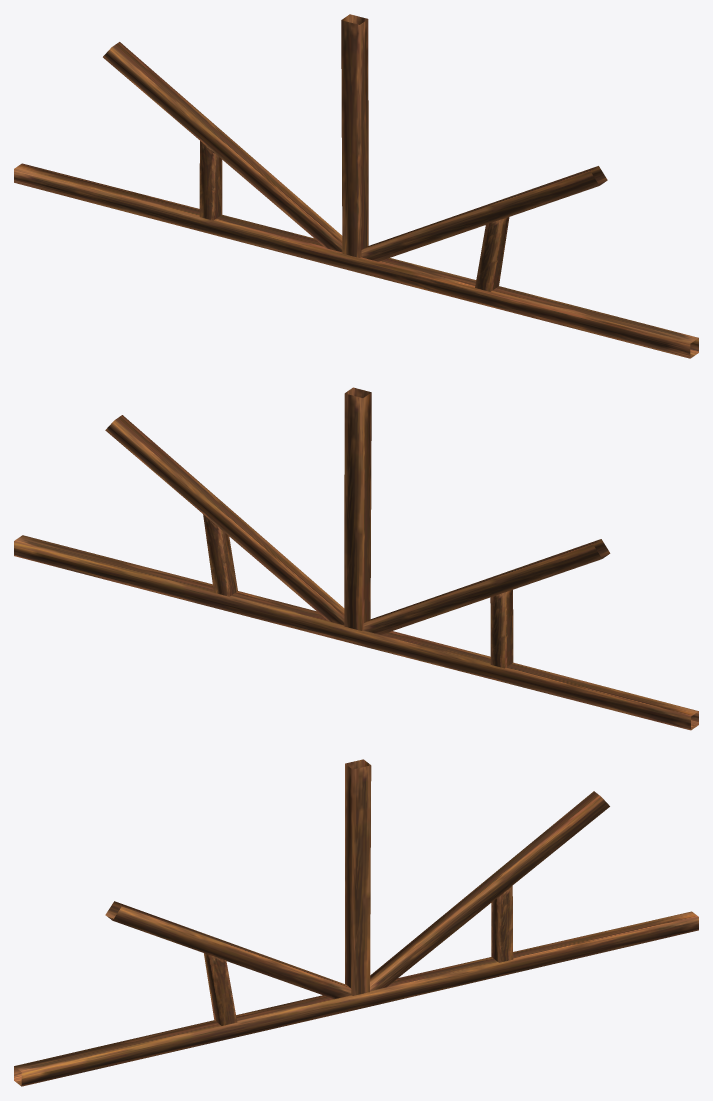
Rendered from SWORDLIGHT20_JAILCEILBRACKET01.fbx.
The picture shows the model from 3 angles, top to bottom: view 1: azimuth 30°, elevation 25°; view 2: azimuth 210°, elevation 25°; view 3: azimuth 270°, elevation 25°; orthographic projection. The views are drawn at different scales.
Parts seen in each view (by area): view 1: SWORDLIGHT20_JAILCEILBRACKET01; view 2: SWORDLIGHT20_JAILCEILBRACKET01; view 3: SWORDLIGHT20_JAILCEILBRACKET01.
Part boxes in pixels (left/top/right/bottom): SWORDLIGHT20_JAILCEILBRACKET01: left=14, top=14, right=698, bottom=358; SWORDLIGHT20_JAILCEILBRACKET01: left=14, top=387, right=698, bottom=730; SWORDLIGHT20_JAILCEILBRACKET01: left=14, top=759, right=698, bottom=1086.
Bounding box in the file's own units: 71200 × 49666 × 127840.
1 material, 1 textured.
